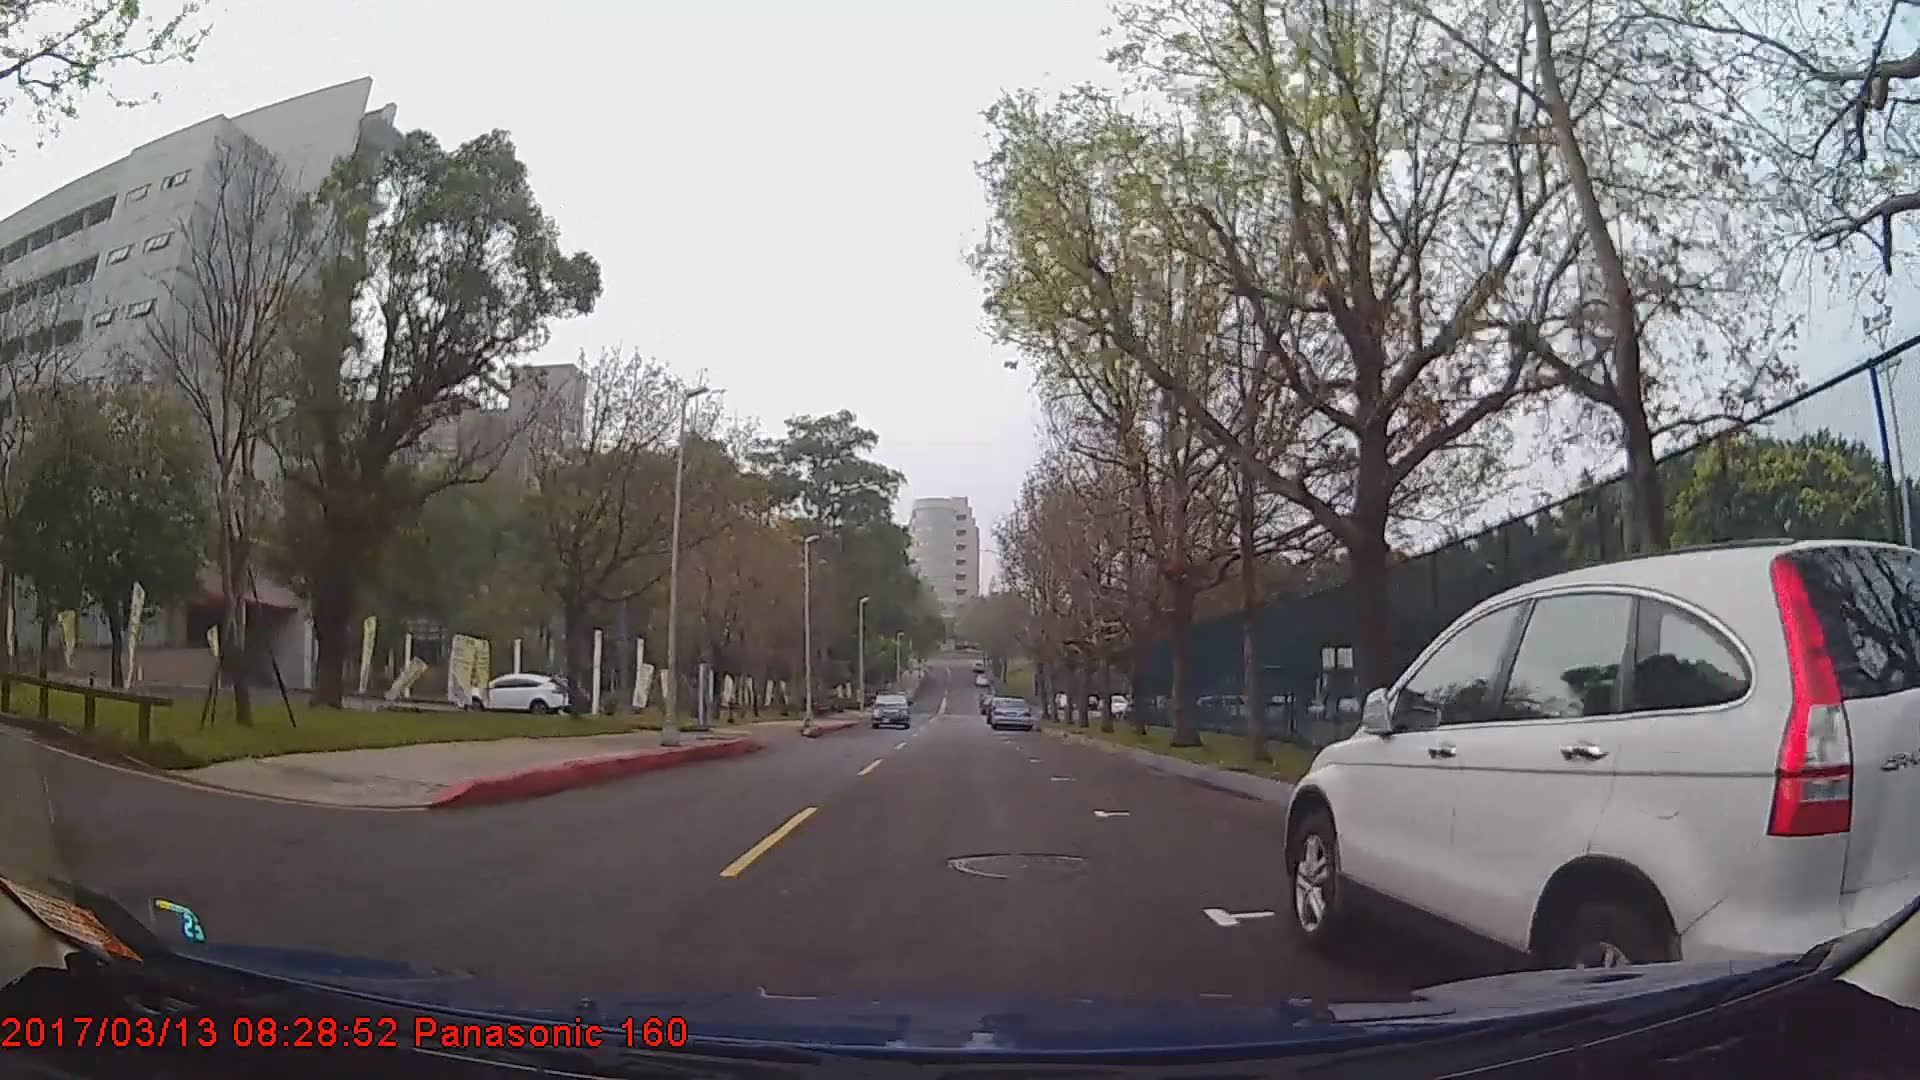vehicle: (1284, 538, 1920, 1029), (463, 671, 571, 717), (872, 690, 911, 729), (989, 695, 1031, 732)
